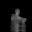person: (10, 9, 25, 31)
